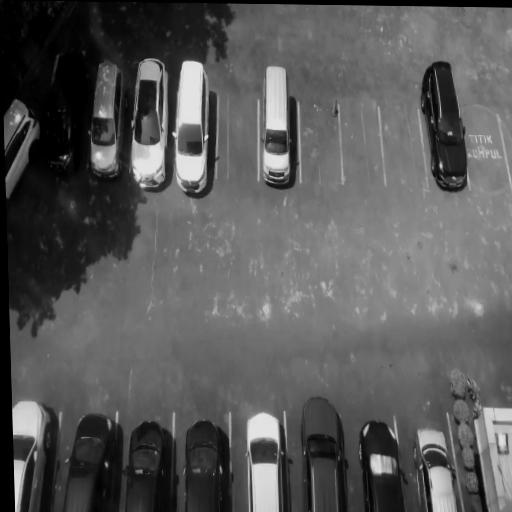Car: (169, 49, 214, 197), (61, 404, 119, 512), (423, 60, 468, 195), (301, 388, 349, 512), (40, 50, 86, 178), (12, 397, 63, 511), (257, 59, 301, 189), (130, 55, 171, 192), (123, 408, 177, 512), (182, 404, 231, 512), (84, 52, 125, 181), (3, 84, 46, 202), (357, 412, 407, 512), (413, 420, 462, 512), (248, 400, 288, 512)
Space Available: (297, 84, 343, 193), (379, 92, 425, 192), (339, 90, 384, 192), (214, 90, 260, 188), (465, 91, 509, 193)
